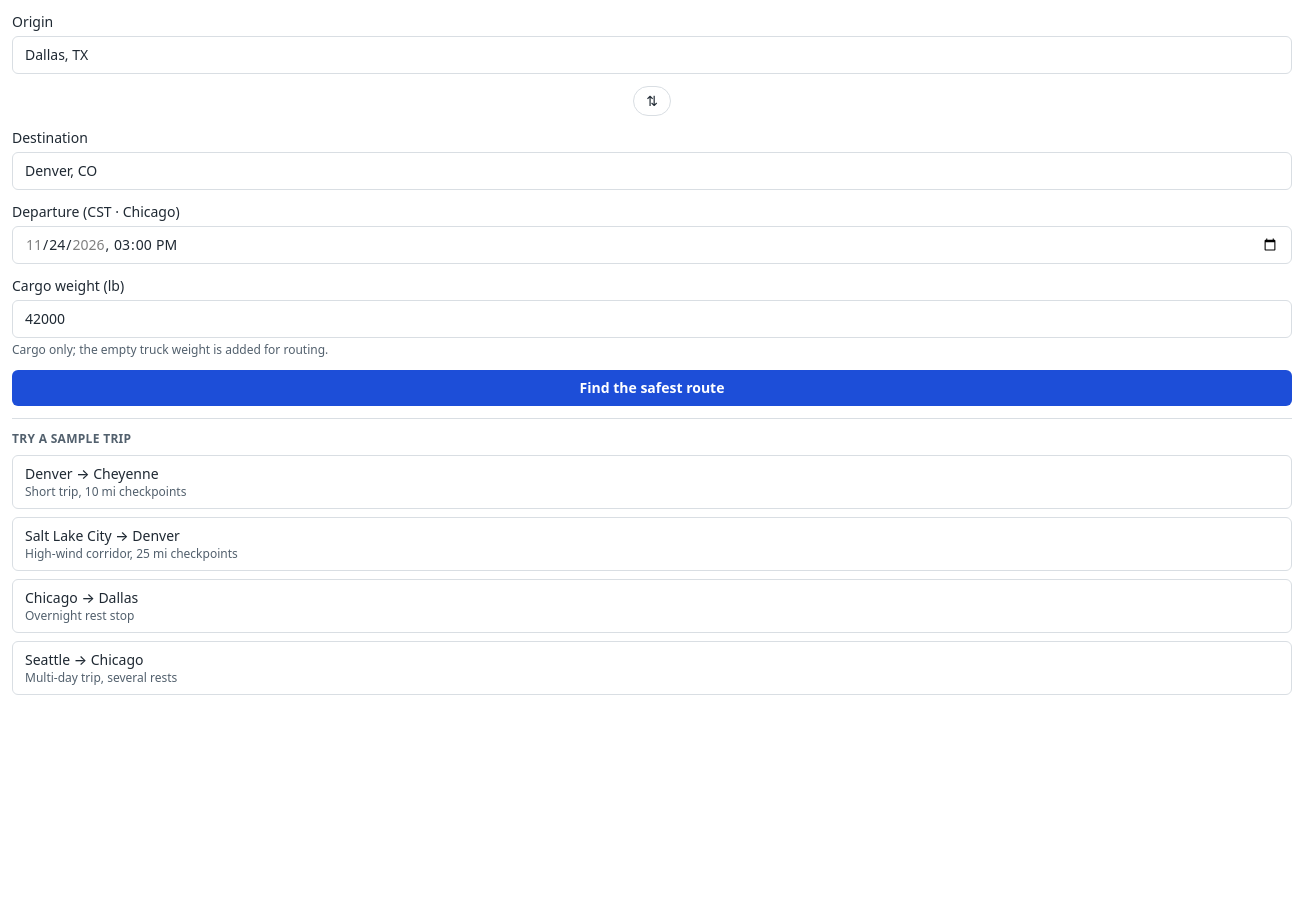
Test case: submitting › shows the same load message the server would
Replace the text in the number field labelled "Cargo weight (lb)" with "500": (652, 319) [12,300,1292,338]
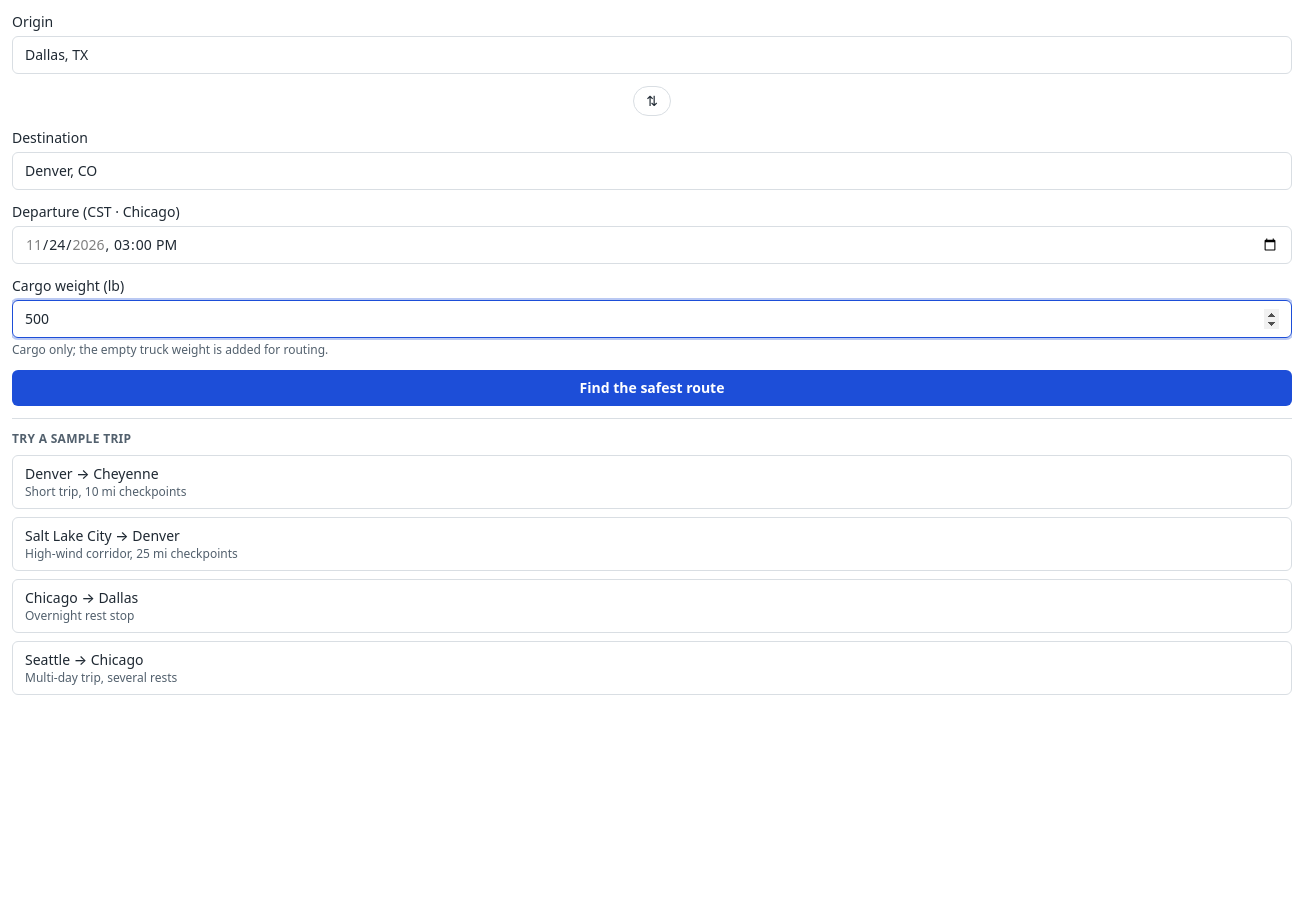
Click the button "Find the safest route": (652, 388) [12,370,1292,406]
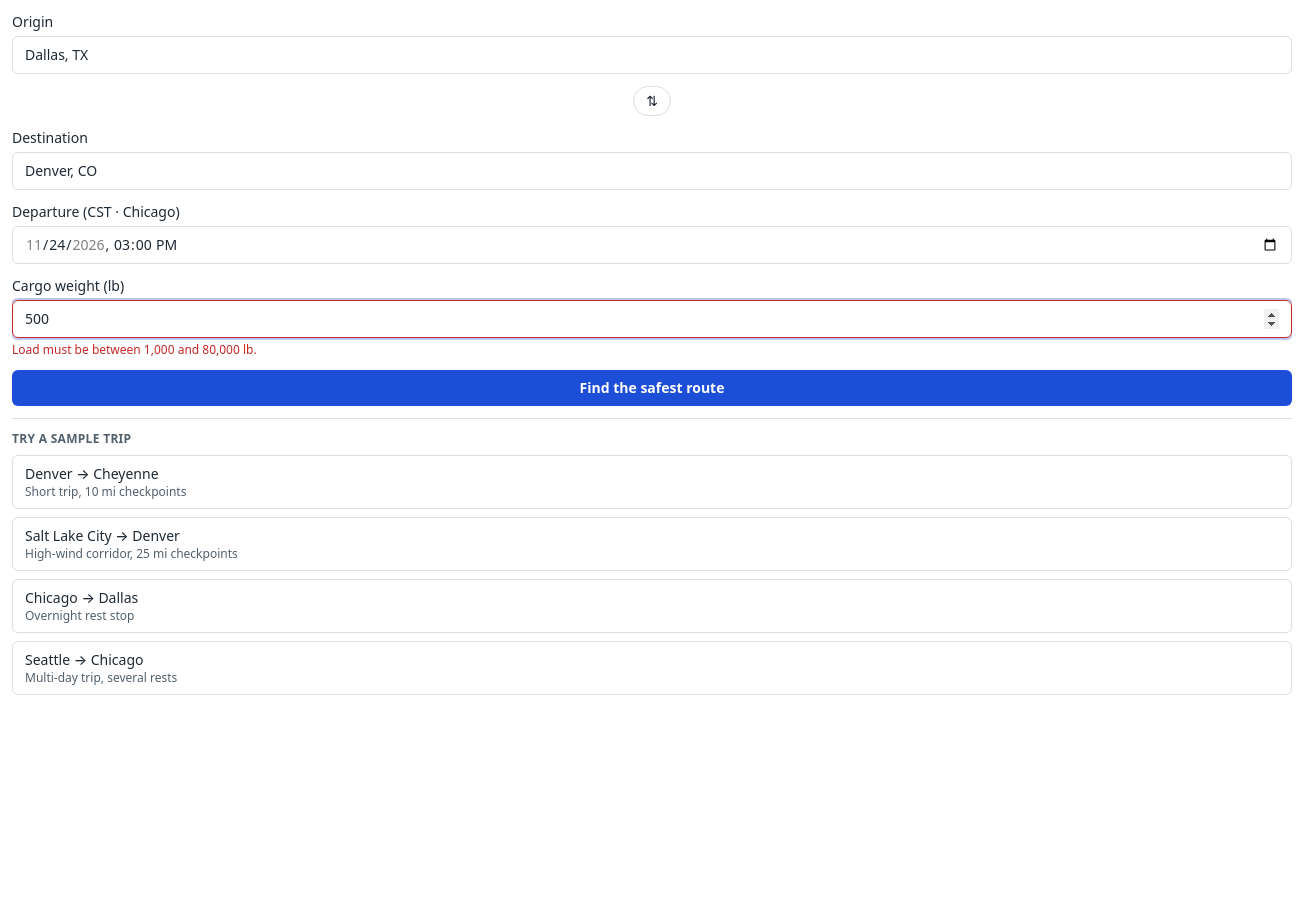
Result: the message reads "Load must be between 1,000 and 80,000 lb." at [12,341,257,358]
